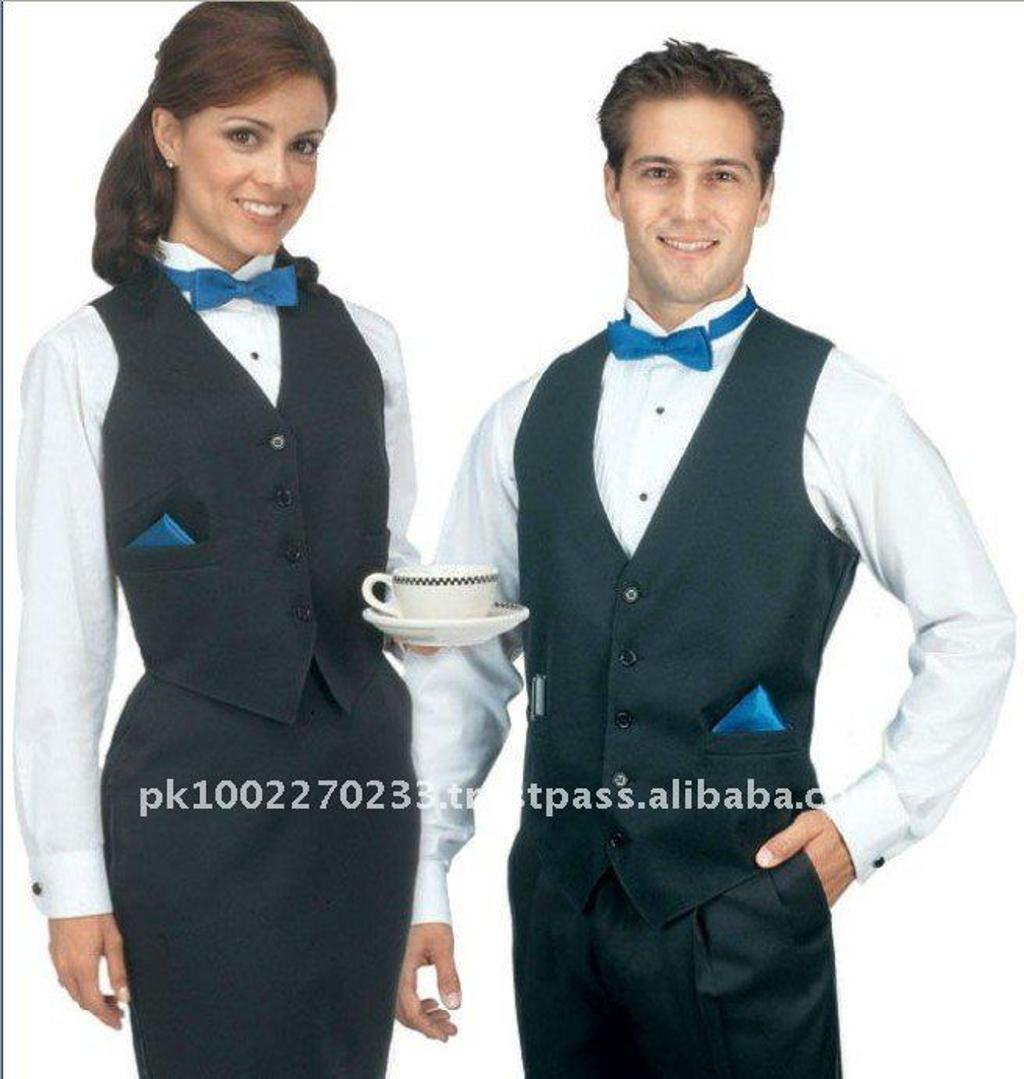face: (617, 91, 760, 297), (183, 57, 330, 255)
